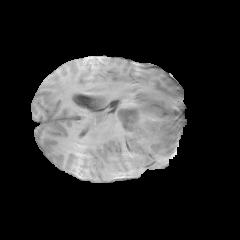glioma: (115, 96, 182, 178)
